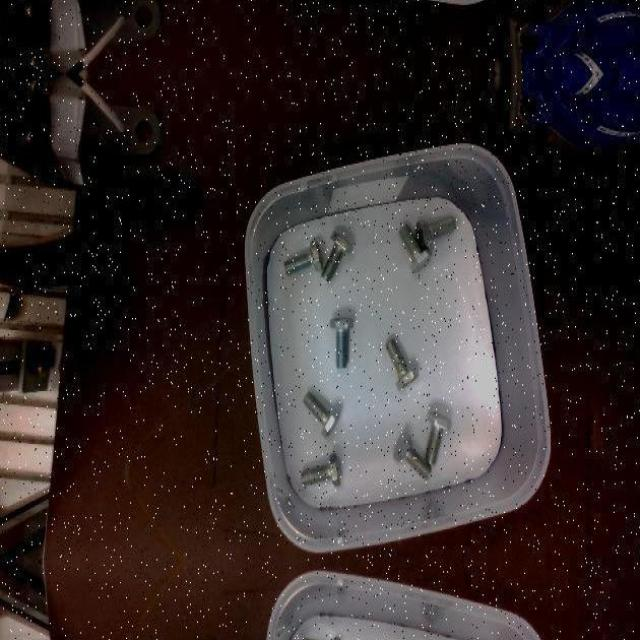screw: (393, 432, 432, 481), (385, 338, 419, 391), (398, 222, 433, 273), (320, 230, 353, 282), (303, 391, 340, 437), (425, 411, 452, 466), (283, 239, 322, 275), (415, 214, 455, 248), (301, 453, 341, 487), (329, 317, 354, 367), (301, 636, 341, 640)
